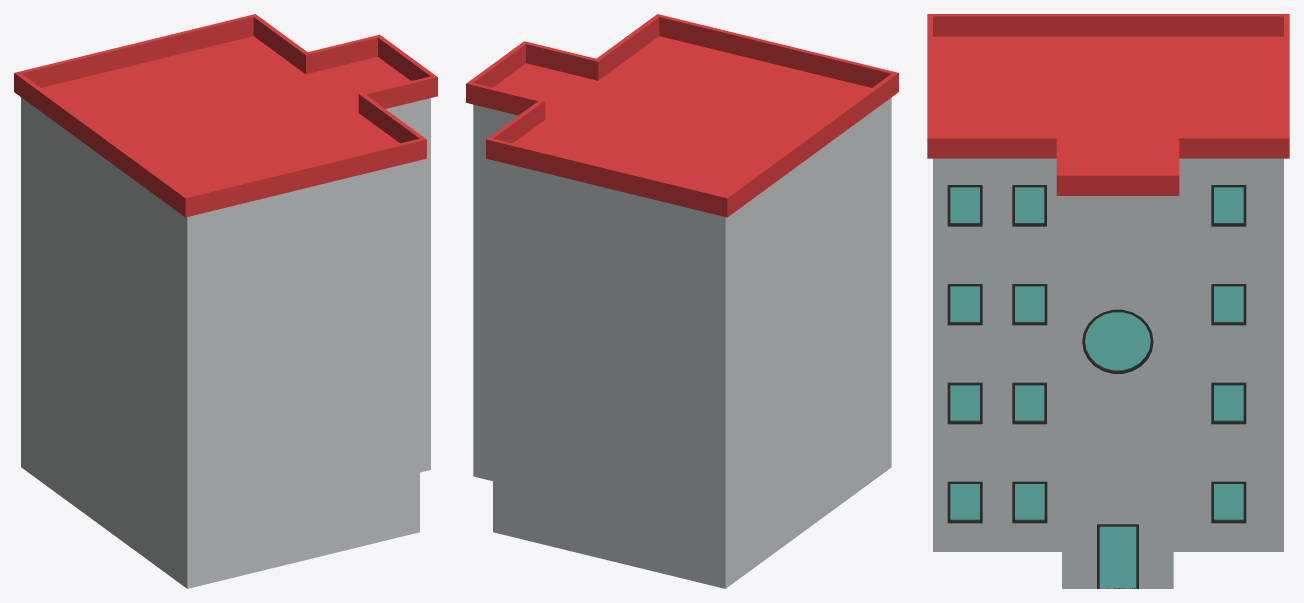
The model's file is random res build 4.fbx.
The picture shows the model from 3 angles, left to right: view 1: azimuth 30°, elevation 25°; view 2: azimuth 150°, elevation 25°; view 3: azimuth 270°, elevation 25°; orthographic projection. The views are drawn at different scales.
Parts seen in each view (by area): view 1: building_004; view 2: building_004; view 3: building_004.
Part boxes in pixels (<box>): building_004: <box>14,14,437,588</box>; building_004: <box>466,14,898,588</box>; building_004: <box>927,14,1289,588</box>.
Bounding box in the file's own units: 3400 × 4079 × 3220.
